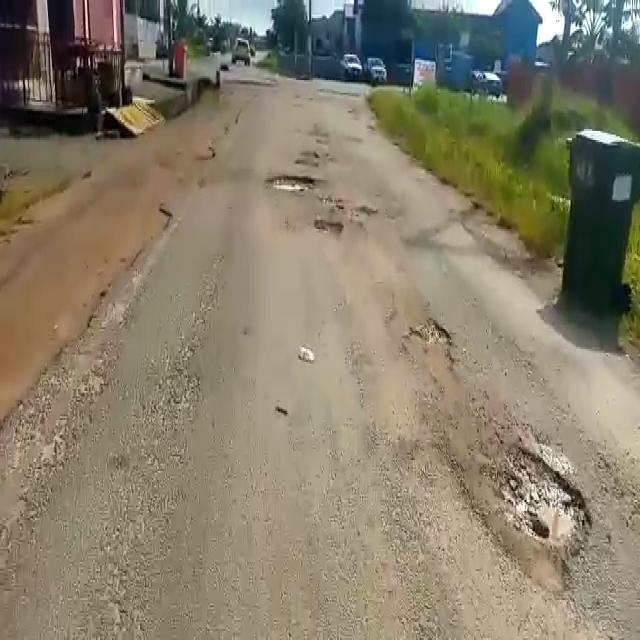Pothole: (486, 432, 598, 575), (398, 317, 456, 372), (263, 172, 317, 194), (312, 215, 348, 238)
